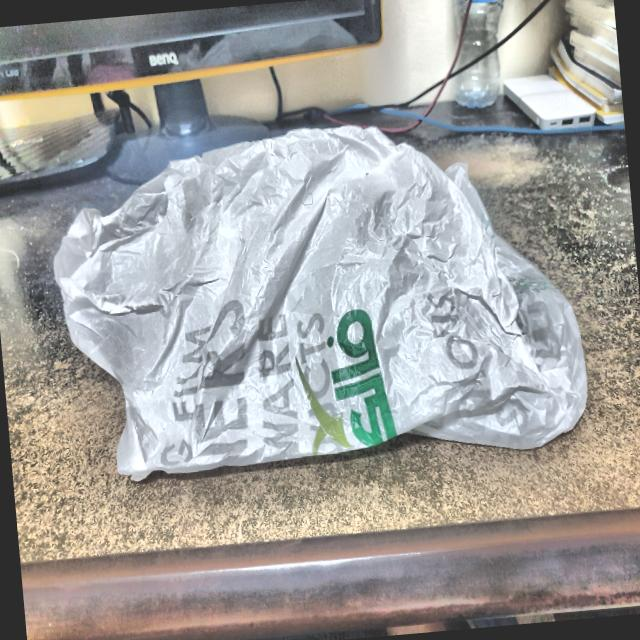plastic bag: (30, 92, 611, 526)
